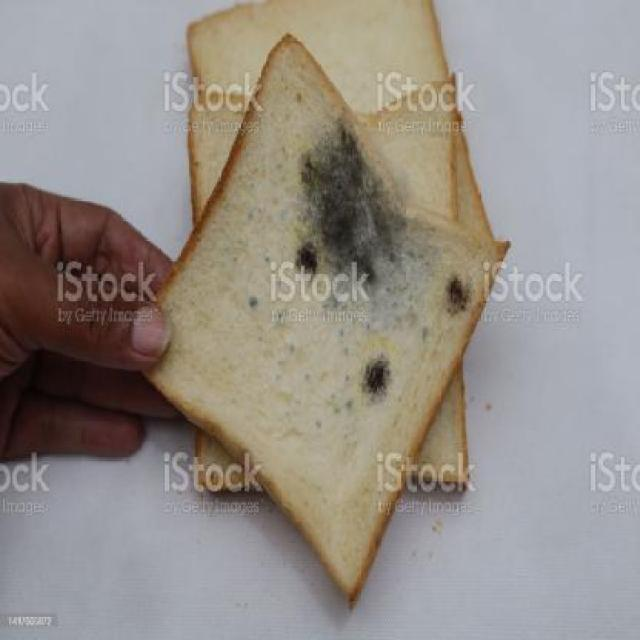mold_bread: (282, 115, 431, 318), (355, 347, 395, 410), (440, 267, 476, 317), (238, 288, 263, 314)
